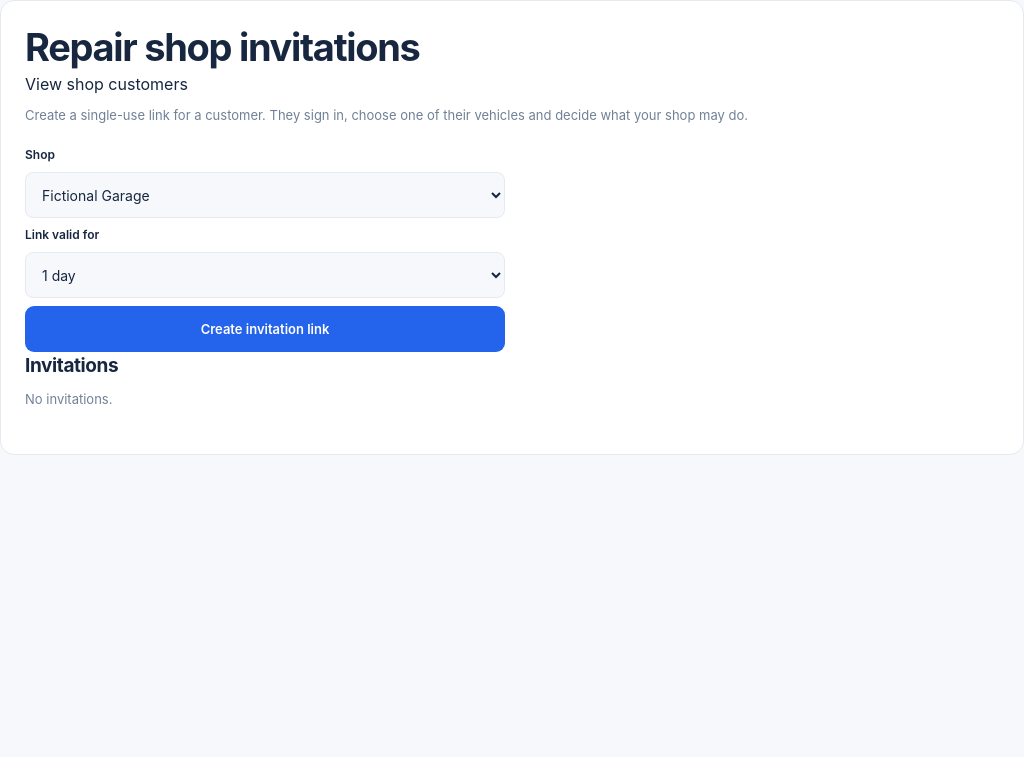
Test: lists only administered shops and creates a fragment link without persisting it
Select "3 days" in the dropdown labelled "Link valid for" at point(265, 275), box x1=25 y1=252 x2=505 y2=298
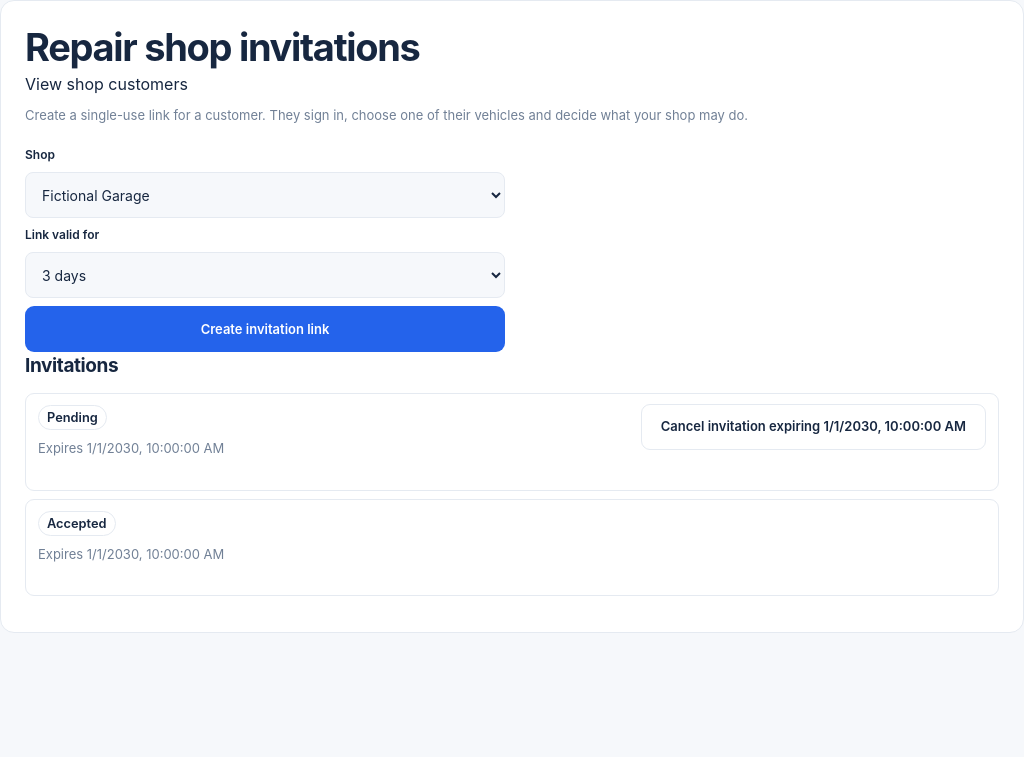
Click the button "Create invitation link" at point(265, 329), box x1=25 y1=306 x2=505 y2=352
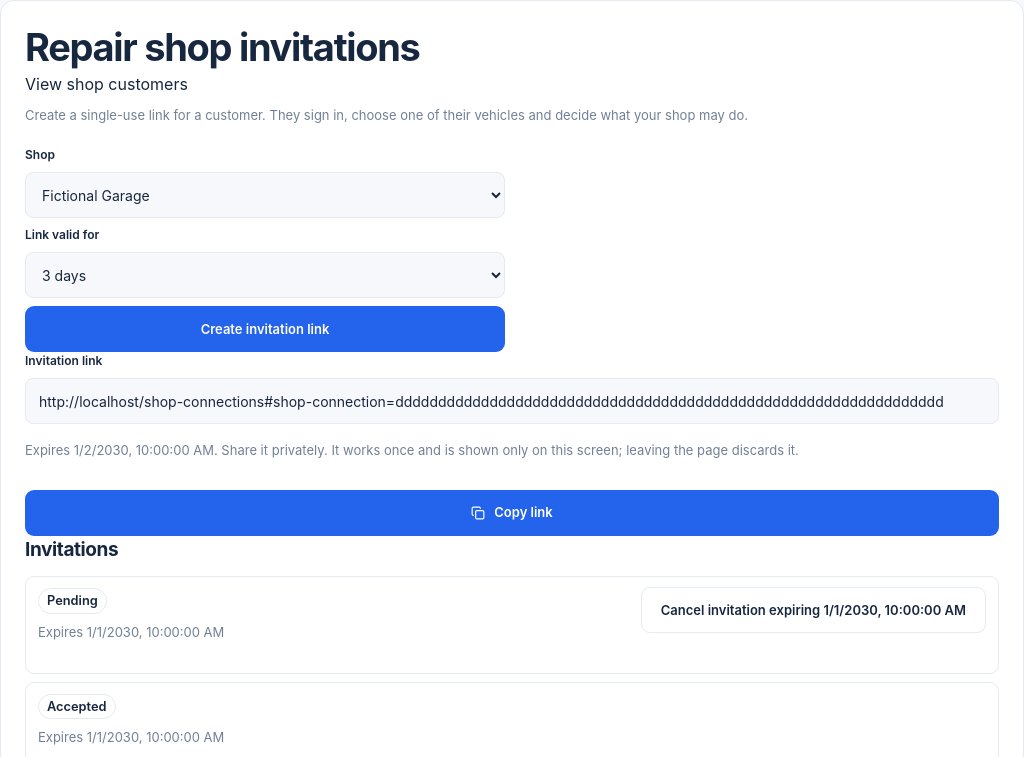
Click the button "Copy link" at point(512, 513), box x1=25 y1=490 x2=999 y2=536
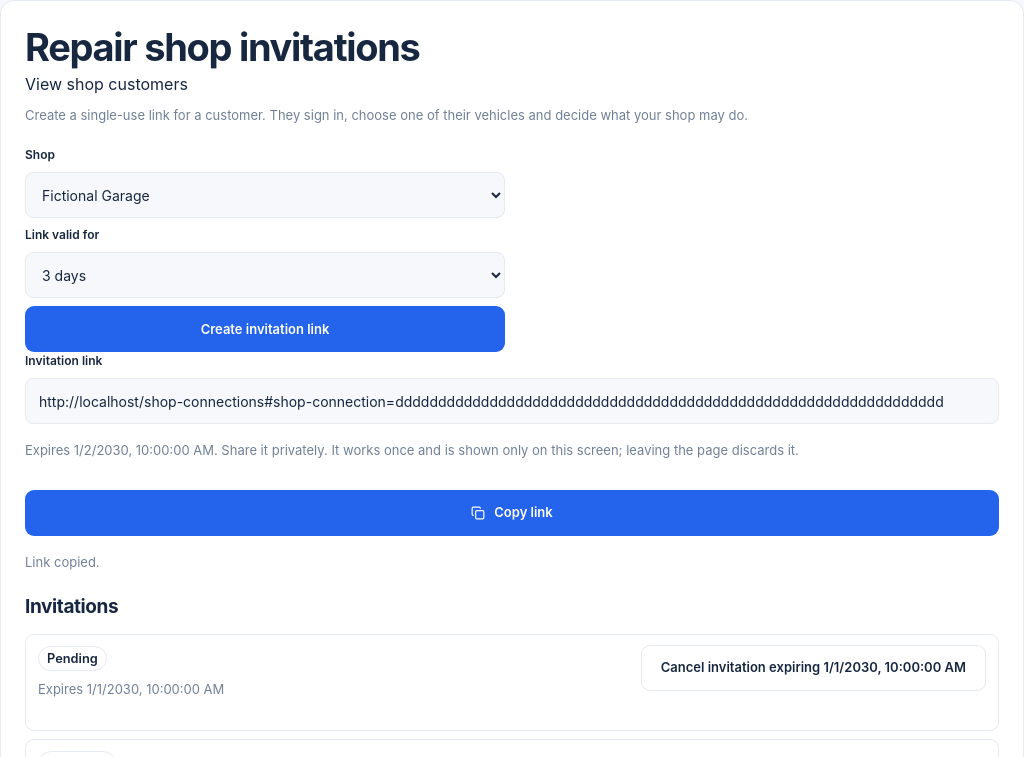
expect the text "Link copied." is shown: met, box x1=25 y1=554 x2=100 y2=570
